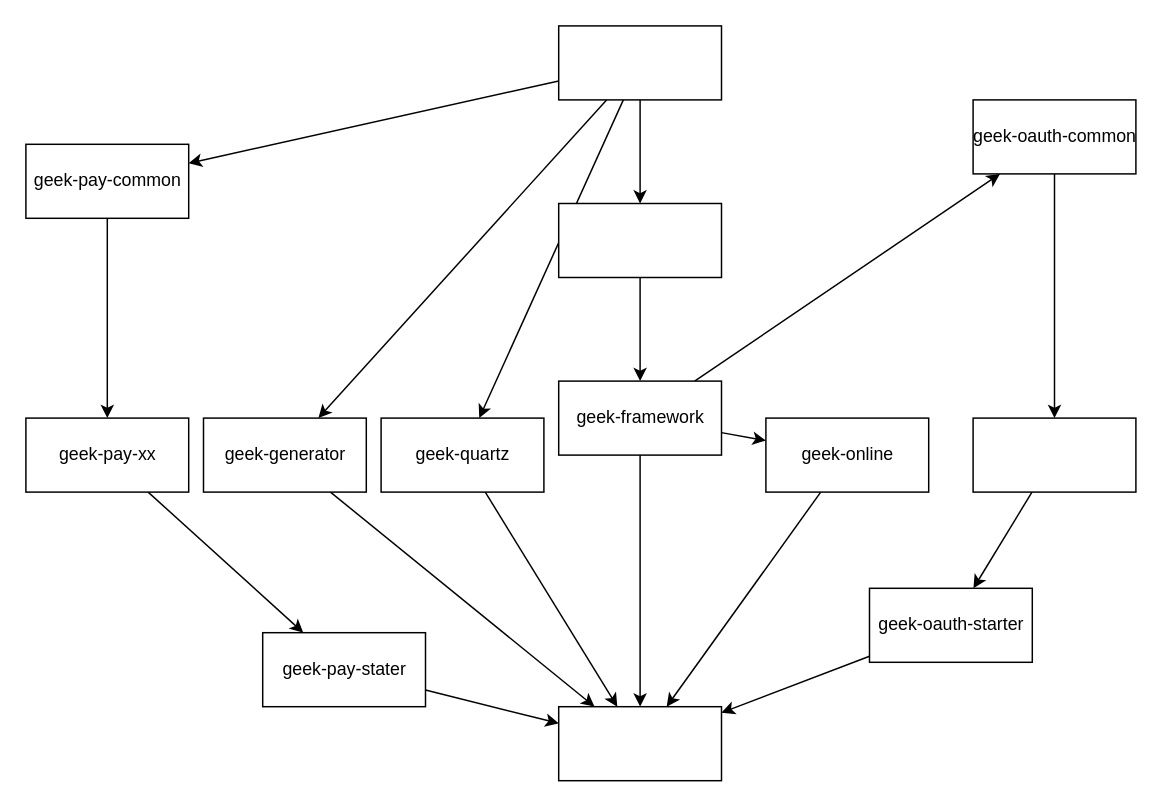
Image size: 1162x807. Some labels were removed from this diagram. The shapes that lost their labels are listed below. From the top down, each one's centre as x and y in pixels, then its label:
At point 639,62: "geek-common".
At point 639,240: "geek-system".
At point 1054,454: "geek-oauth-xx".
At point 639,743: "geek-admin".
